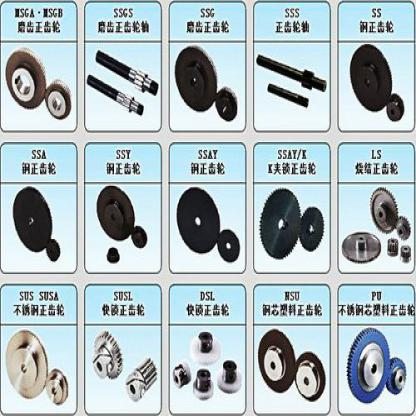FOD: (344, 325, 391, 406), (258, 184, 301, 263), (92, 328, 122, 384), (340, 226, 383, 262), (188, 329, 223, 367)
